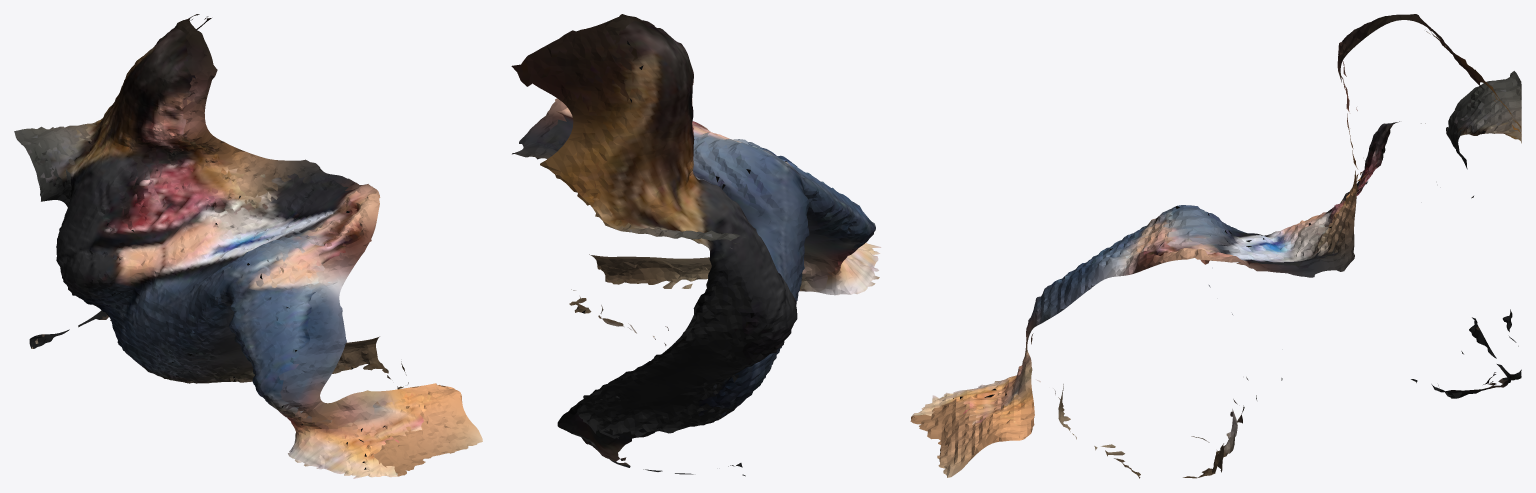
The picture shows the model from 3 angles, left to right: view 1: azimuth 30°, elevation 25°; view 2: azimuth 150°, elevation 25°; view 3: azimuth 270°, elevation 25°; orthographic projection. The views are drawn at different scales.
Size of the model in its own units: 0.5948 by 0.7265 by 1.02.
1 material, 1 textured.
